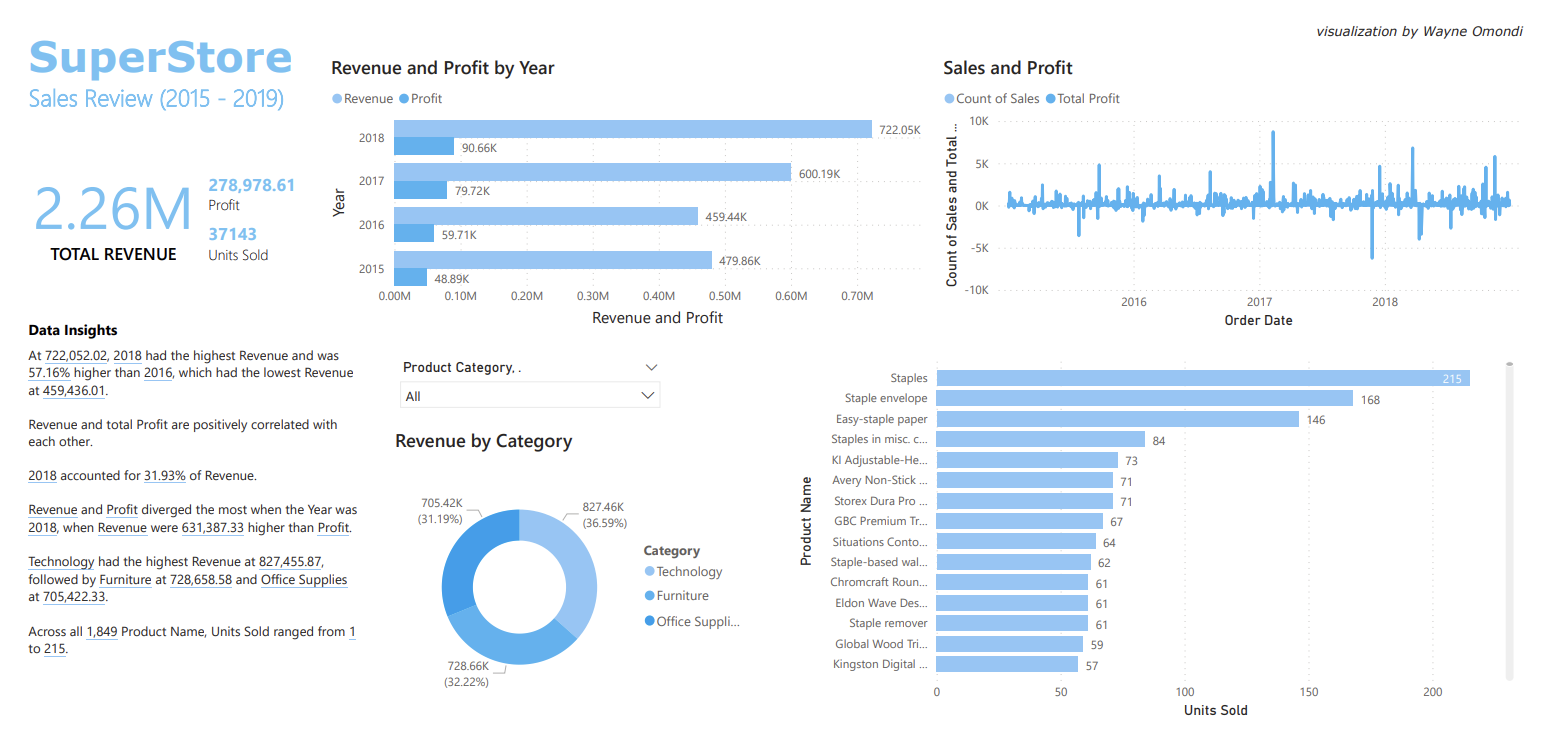

Layout of this report page (visuals, bound fields, positions):
{"tool":"powerbi","page":{"name":"Page 1","canvas":[1550,759],"ordinal":0},"visuals":[{"type":"card","fields":{"Values":["Sum(SuperStoreSales_Whole.Sales)"]},"box":[6.7,116.7,183.3,173.3],"z":1000},{"type":"clusteredBarChart","fields":{"Category":["SuperStoreSales_Whole.Product Name"],"Y":["Sum(SuperStoreSales_Whole.Quantity)"]},"box":[790,340,738.3,380],"z":3000},{"type":"multiRowCard","fields":{"Values":["Sum(SuperStoreSales_Whole.Profit)","Sum(SuperStoreSales_Whole.Quantity)"]},"box":[190,155,101.7,135],"z":4000},{"type":"donutChart","fields":{"Category":["SuperStoreSales_Whole.Category"],"Y":["Sum(SuperStoreSales_Whole.Sales)"]},"box":[380,420,371.7,300],"z":5000},{"type":"clusteredBarChart","fields":{"Category":["SuperStoreSales_Whole.Order Year"],"Y":["Sum(SuperStoreSales_Whole.Sales)","Sum(SuperStoreSales_Whole.Profit)"]},"box":[315,40,626.7,283.3],"z":6000},{"type":"slicer","fields":{"Values":["SuperStoreSales_Whole.Category","SuperStoreSales_Whole.Sub-Category"]},"box":[380,345,285,68.3],"z":7000},{"type":"textbox","box":[976.7,1.7,570,40],"z":8000},{"type":"textbox","box":[6.7,331.7,348.3,380],"z":9000},{"type":"areaChart","title":"Sales and Profit","fields":{"Category":["SuperStoreSales_Whole.Order Year"],"Y2":["CountNonNull(SuperStoreSales_Whole.Sales)"],"Y":["Sum(SuperStoreSales_Whole.Profit)"]},"box":[938.3,40,598.3,283.3],"z":10000},{"type":"textbox","box":[6.7,301.7,300,30],"z":11000},{"type":"textbox","box":[6.7,10,308.3,126.7],"z":11500}]}

Visuals, with their boxes in screenshot pixels (x1, y1, x2, y2), scaled from the page's 1550x759 canvas onto the 1549x744 screenshot:
card - Sum(SuperStoreSales_Whole.Sales): l=7, t=114, r=190, b=284
clusteredBarChart - SuperStoreSales_Whole.Product Name x Sum(SuperStoreSales_Whole.Quantity): l=789, t=333, r=1527, b=706
multiRowCard - Sum(SuperStoreSales_Whole.Profit) x Sum(SuperStoreSales_Whole.Quantity): l=190, t=152, r=292, b=284
donutChart - SuperStoreSales_Whole.Category x Sum(SuperStoreSales_Whole.Sales): l=380, t=412, r=751, b=706
clusteredBarChart - SuperStoreSales_Whole.Order Year x Sum(SuperStoreSales_Whole.Sales): l=315, t=39, r=941, b=317
slicer - SuperStoreSales_Whole.Category x SuperStoreSales_Whole.Sub-Category: l=380, t=338, r=665, b=405
textbox: l=976, t=2, r=1546, b=41
textbox: l=7, t=325, r=355, b=698
"Sales and Profit" areaChart: l=938, t=39, r=1536, b=317
textbox: l=7, t=296, r=307, b=325
textbox: l=7, t=10, r=315, b=134
